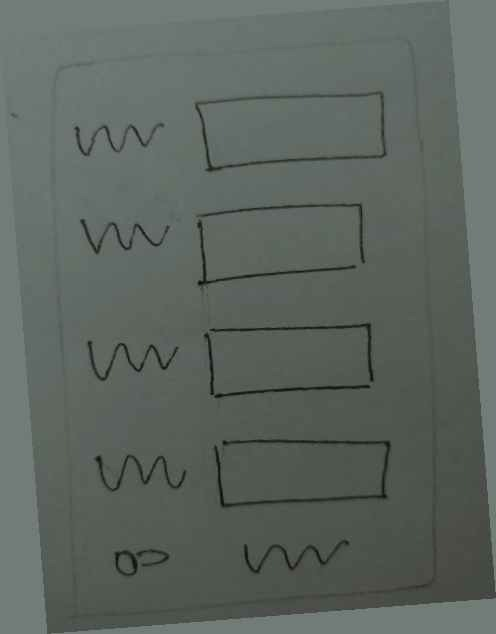switch: (91, 535, 184, 586)
text: (224, 527, 368, 590), (76, 320, 184, 394), (83, 439, 193, 506), (66, 203, 175, 270), (66, 106, 177, 169)
text_input: (183, 74, 400, 181), (195, 304, 391, 418), (202, 419, 403, 529), (188, 192, 378, 297)
